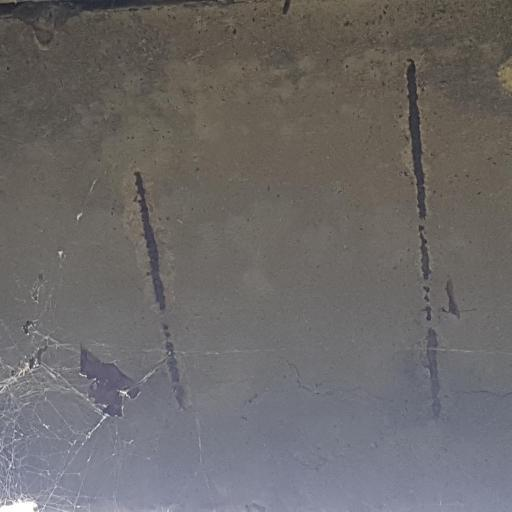exposed_rebar: (0, 0, 209, 46), (135, 172, 166, 313), (407, 60, 426, 219), (163, 324, 185, 409), (427, 329, 441, 420), (419, 226, 431, 279), (446, 277, 460, 318), (425, 306, 431, 322), (423, 286, 430, 293), (425, 295, 428, 300)
